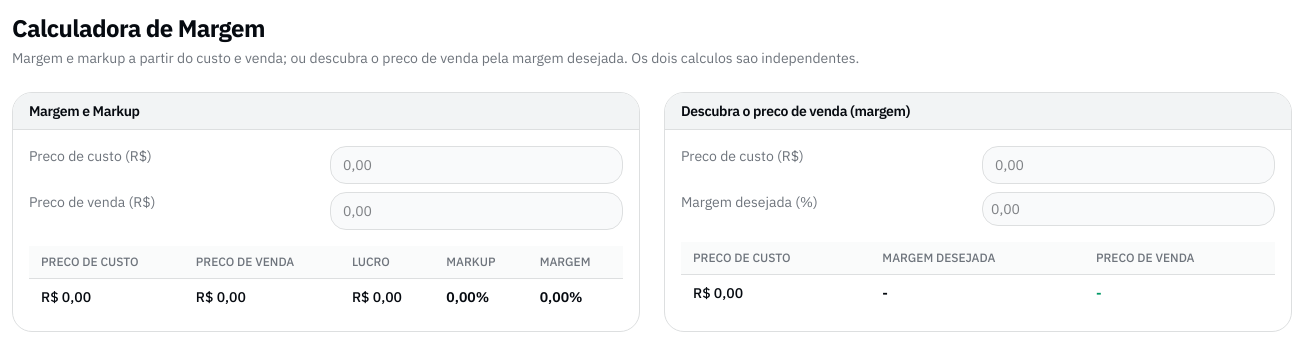
Test: CalculadoraMargem — calculos › card esquerdo calcula lucro, markup e margem
The width and height of the screenshot is (1292, 349).
Type "100" into the field with id "markup-custo". click: point(476, 165)
box: x1=330 y1=146 x2=623 y2=184
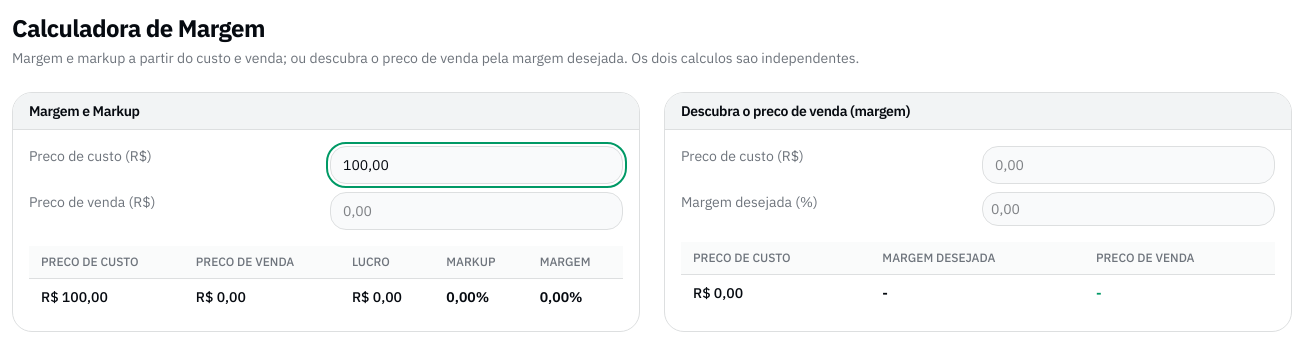
Type "150" into the field with id "markup-venda". click: point(476, 211)
box: x1=330 y1=192 x2=623 y2=230
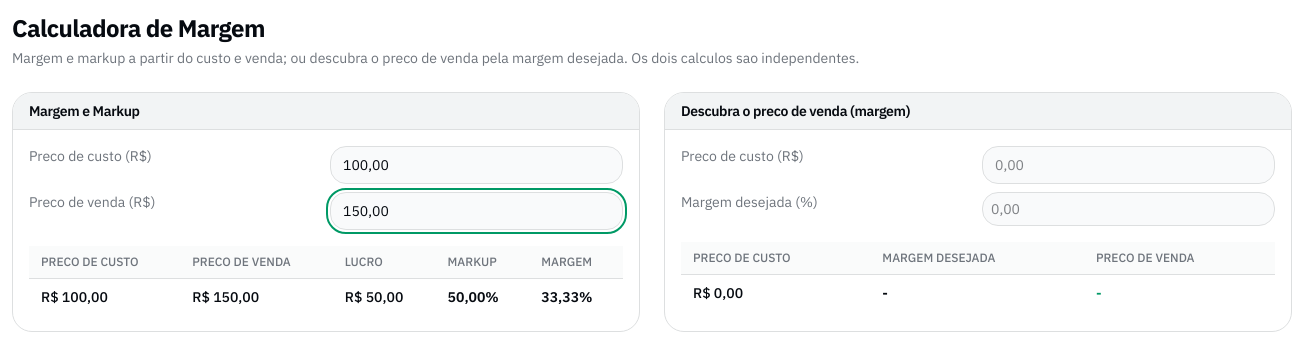
Expected: the text "50,00%" is shown, x1=436 y1=278 x2=529 y2=315
Expected: the text "33,33%" is shown, x1=529 y1=278 x2=623 y2=315
